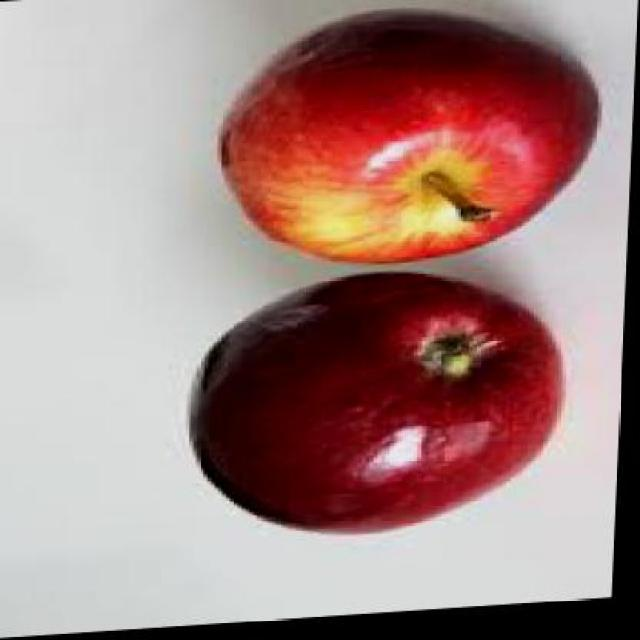Fresh Apple: (204, 271, 554, 554), (224, 23, 590, 269)
